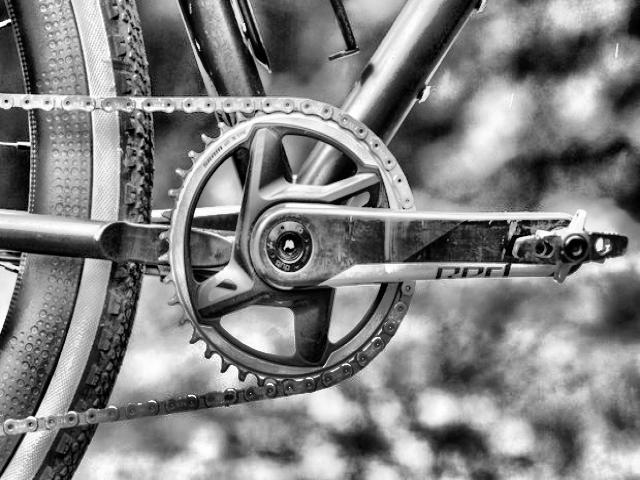cranks_set: (154, 106, 586, 392)
pedal: (508, 200, 632, 285)
